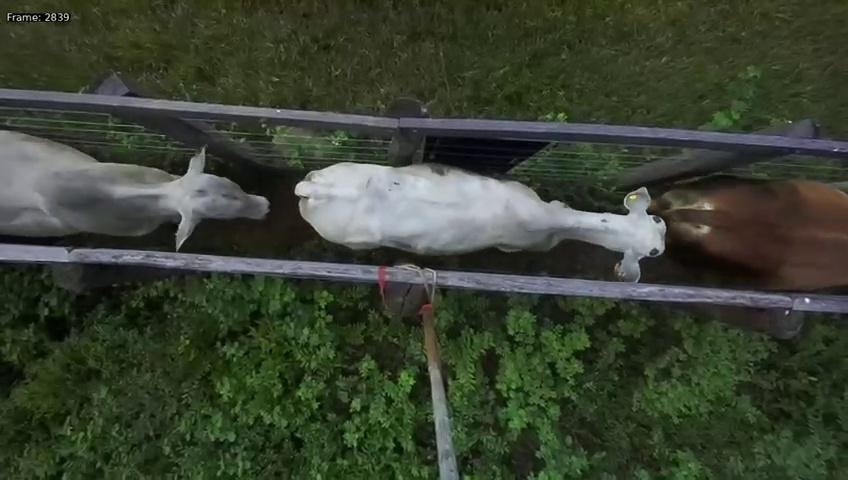cattle: (293, 124, 669, 282), (0, 118, 274, 255)
